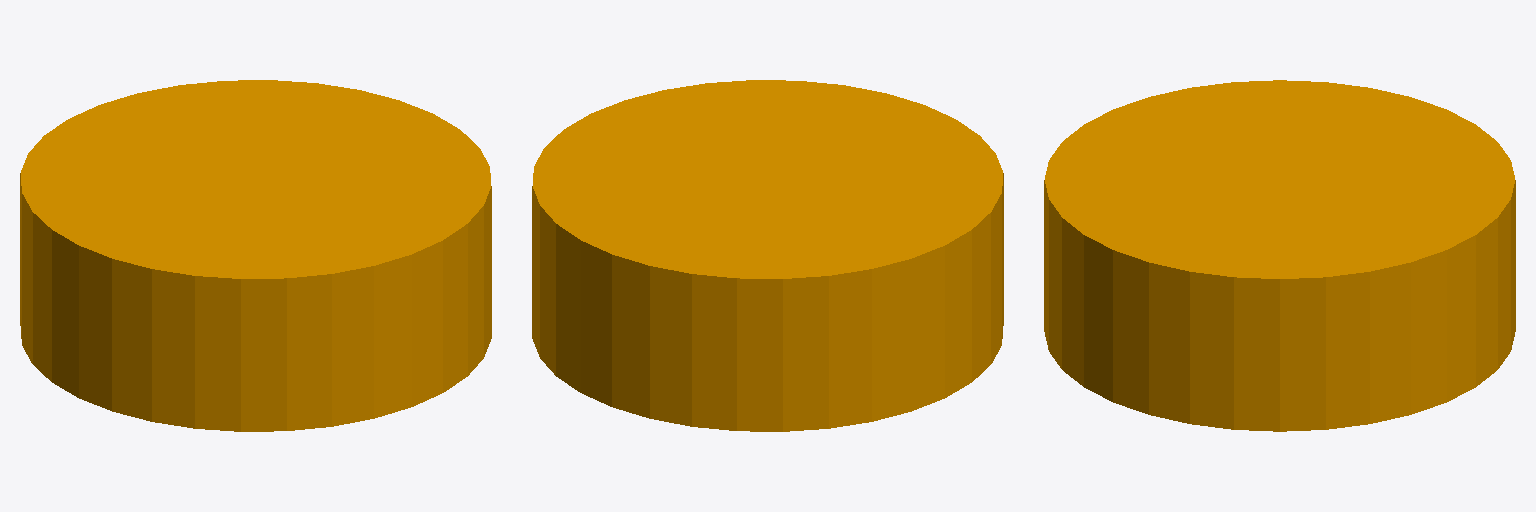
The robot description file, URDF, robot "pepe":
<?xml version="1.0"?><robot name="pepe">
	<link name="0">
		<visual>
			<geometry>
				<cylinder length="0.6199469382301261" radius="0.8675755558467819"/>
			</geometry>
		</visual>
		<collision>
			<geometry>
				<cylinder length="0.6199469382301261" radius="0.8675755558467819"/>
			</geometry>
		</collision>
		<inertial>
			<mass value="1.4659494891454548"/>
			<inertia ixx="0.03" iyy="0.03" izz="0.03" ixy="0" ixz="0" iyx="0"/>
		</inertial>
	</link>
</robot>

--- What the picture shows (computed from the rendered views, not written in the file) ---
Views: 3 orthographic renders of the robot side by side, from view 1: azimuth 30°, elevation 25°; view 2: azimuth 150°, elevation 25°; view 3: azimuth 270°, elevation 25°.
Model pepe with 1 links and 0 joints (none), rooted at 0, posed all joints at 0.
Visible links, largest first — view 1: 0; view 2: 0; view 3: 0.
Boxes of the visible links, x1,y1,x2,y2 form: 0: (20, 80, 491, 431); 0: (532, 80, 1003, 431); 0: (1044, 80, 1515, 431).
Size in the robot's own frame: 1.74 by 1.74 by 0.6199 metres.
Geometry: primitives only (box / cylinder / sphere), no mesh files.